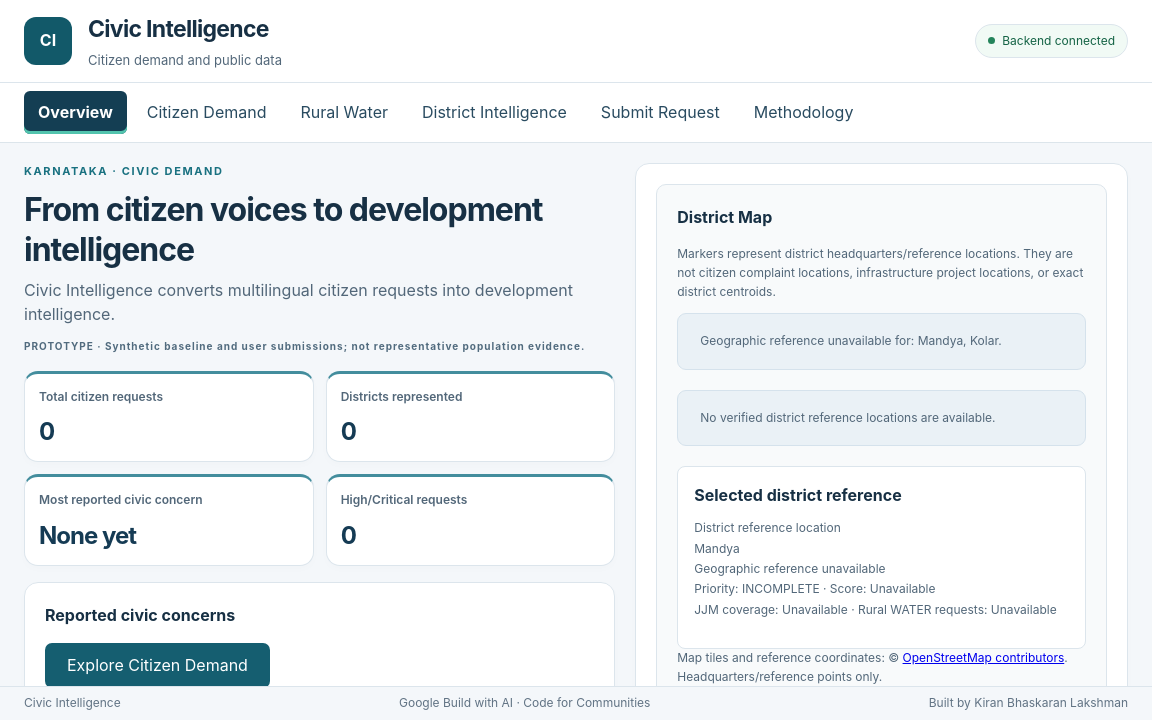
Test case: Overview is default; each tab exposes only its content and retains footer
Expected: the heading "From citizen voices to development intelligence" is shown, [24, 190, 615, 270]
Expected: the heading "Citizen Demand Intelligence" is not shown
Click the tab "Citizen Demand" at (207, 112), box [133, 91, 280, 134]
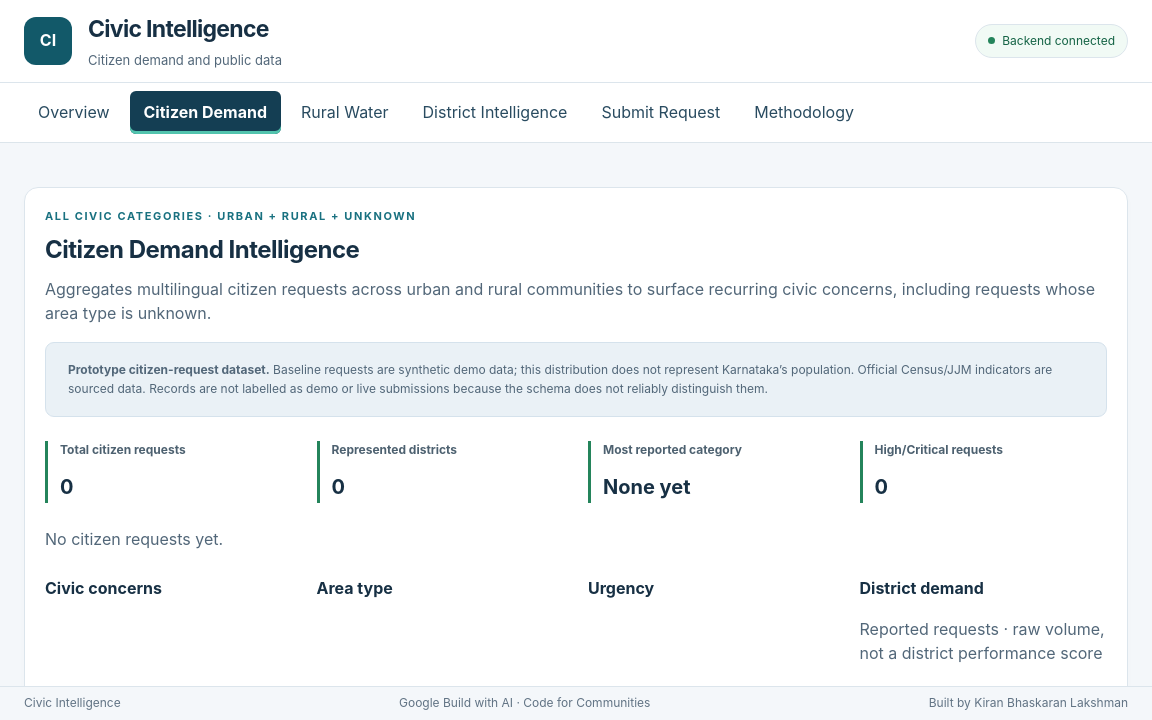
Expected: the heading "Rural Water Evidence Analysis" is not shown
Result: the heading "Citizen Demand Intelligence" is shown at [45, 235, 359, 264]
Click the tab "Rural Water" at (345, 112), box [287, 91, 402, 134]
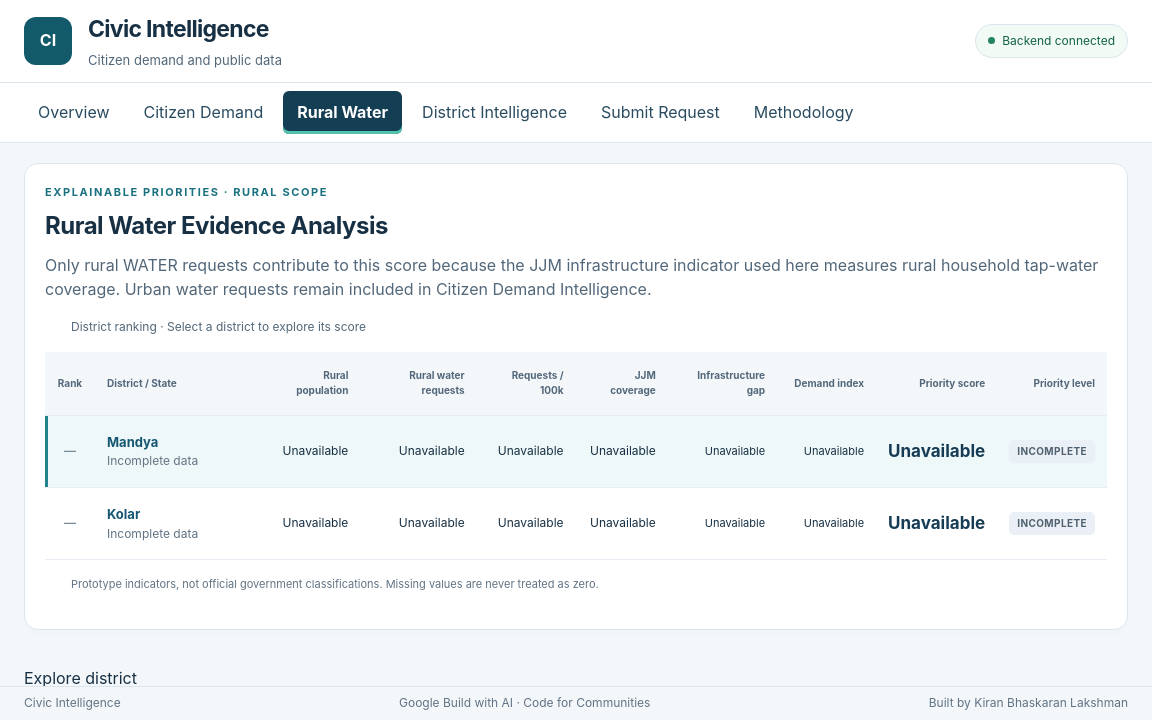
Result: the heading "Rural Water Evidence Analysis" is shown at [45, 211, 388, 240]
Click the tab "District Intelligence" at (495, 112), box [408, 91, 581, 134]
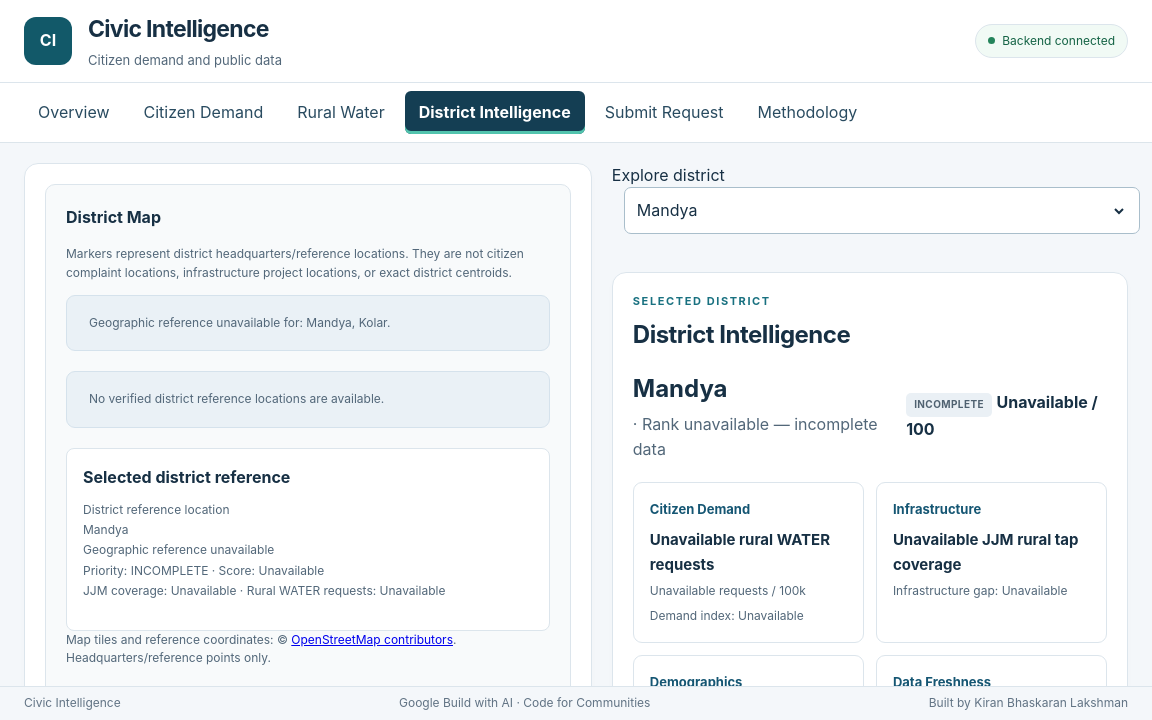
Result: the dropdown labelled "Explore district" is shown at [624, 187, 1140, 234]
Click the tab "Submit Request" at (664, 112), box [591, 91, 738, 134]
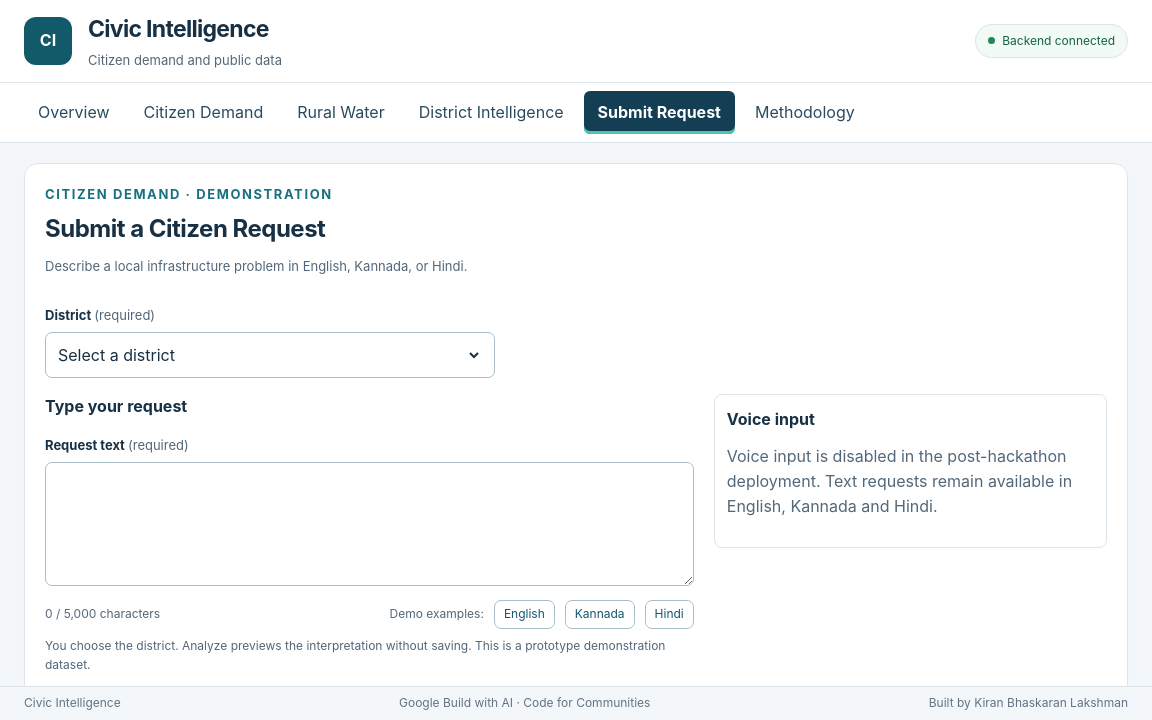
Result: the text box labelled "Request text (required)" is shown at [45, 462, 694, 586]
Click the tab "Methodology" at (805, 112), box [741, 91, 869, 134]
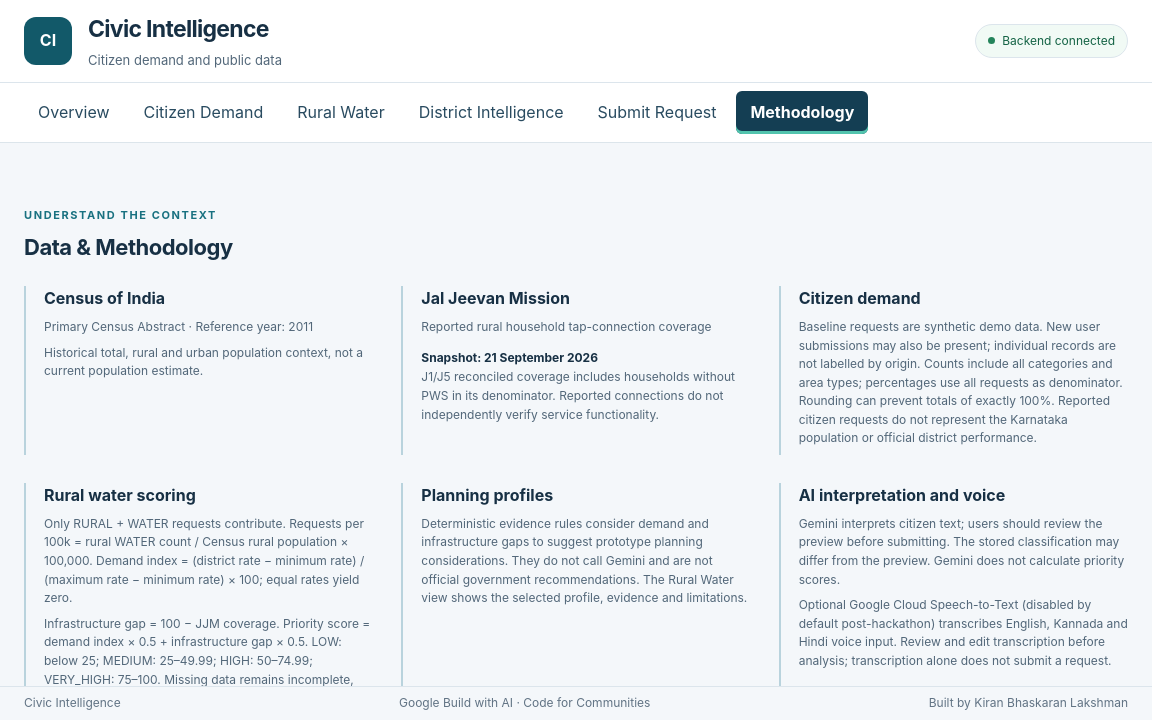
Expected: the text "Built by Kiran Bhaskaran Lakshman" is shown, [929, 694, 1128, 713]
Result: the heading "Data & Methodology" is shown at [24, 234, 233, 260]
Result: the text "Primary Census Abstract · Reference year: 2011" is shown at [44, 319, 313, 334]
